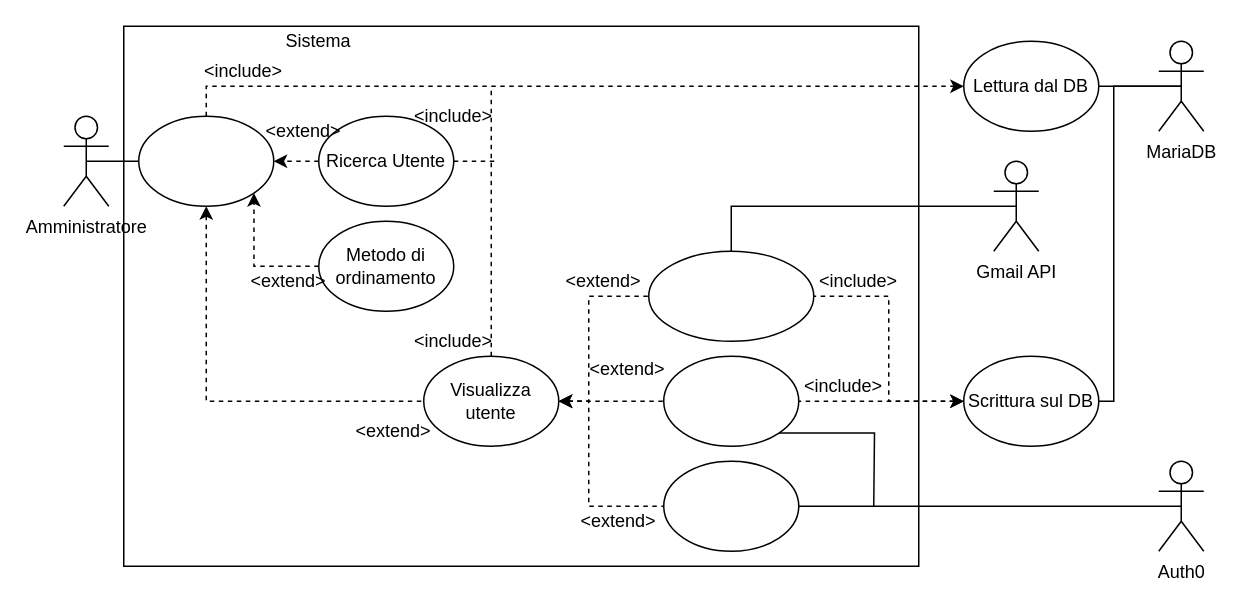
The diagram is 1242 pixels wide and 609 high, and some of its shapes have lost their labels. The shapes that lost their labels are listed below. From the top down, each one's centre as x and y in pixels, then its label:
At pixel 205 160: "Lista utenti".
At pixel 730 295: "Modifica numero di telefono".
At pixel 730 400: "Elimina utente".
At pixel 730 505: "Modifica password".
